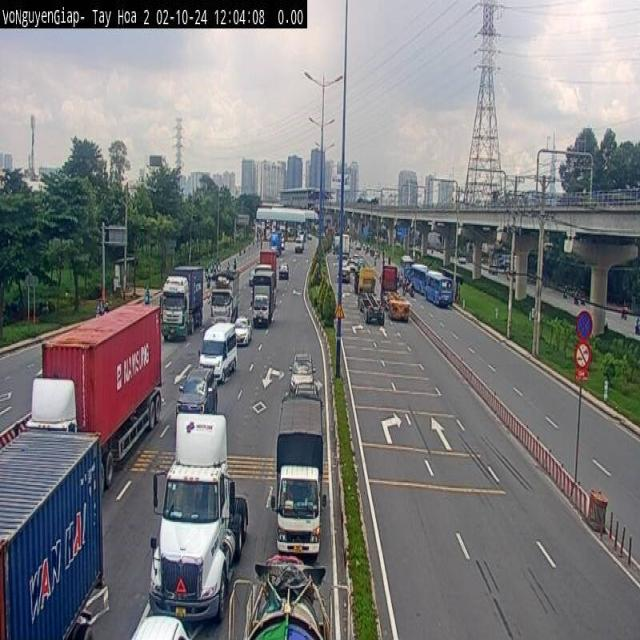container-truck: (22, 297, 162, 487), (0, 417, 112, 640), (147, 408, 248, 624)
truck: (266, 382, 326, 560)
